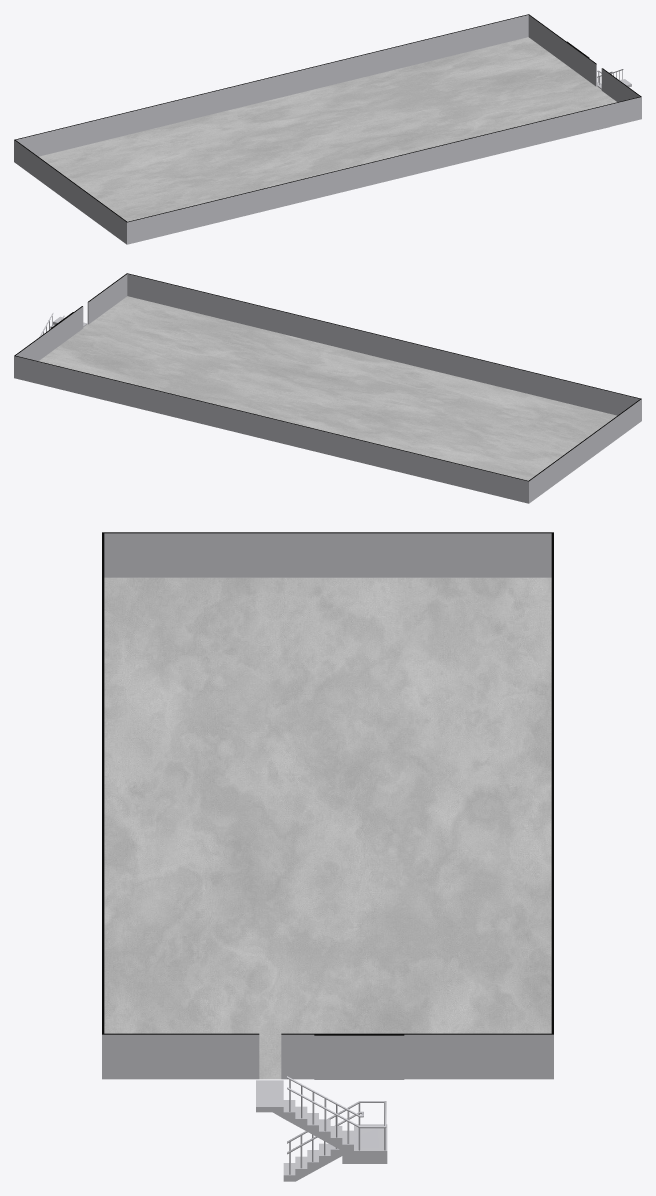
3 renders of one model, top to bottom at view 1: azimuth 30°, elevation 25°; view 2: azimuth 150°, elevation 25°; view 3: azimuth 270°, elevation 25°, orthographic. The views are drawn at different scales.
Parts seen in each view (by area): view 1: H4_옥상_바닥, H4_옥상_벽; view 2: H4_옥상_바닥, H4_옥상_벽; view 3: H4_옥상_바닥, H4_옥상_벽, H4_3F외부계단002.
Part boxes in pixels (box(x1,y1,x2,y2)): H4_옥상_바닥: box(39, 37, 616, 221); H4_옥상_벽: box(14, 14, 641, 244); H4_옥상_바닥: box(39, 296, 616, 480); H4_옥상_벽: box(14, 273, 641, 503); H4_옥상_바닥: box(104, 577, 551, 1079); H4_옥상_벽: box(102, 532, 553, 1079); H4_3F외부계단002: box(256, 1076, 387, 1181).
Bounding box in the file's own units: 51.07 × 6 × 18.4.
4 materials, 1 textured.
